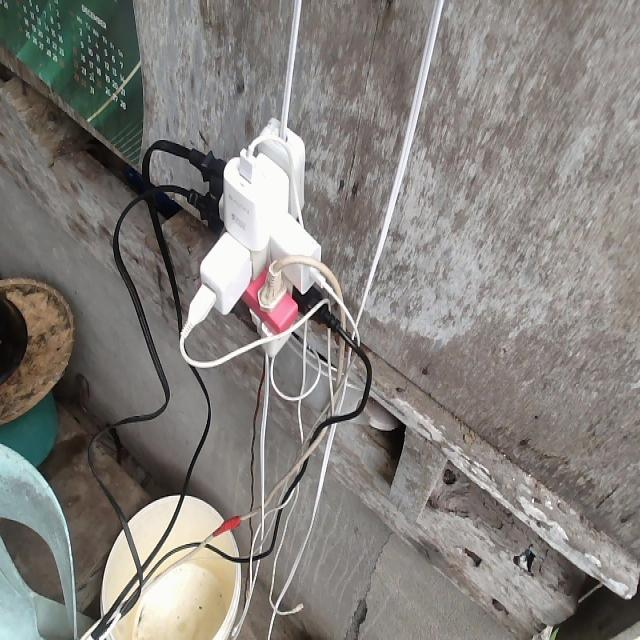-: (158, 115, 342, 365)
